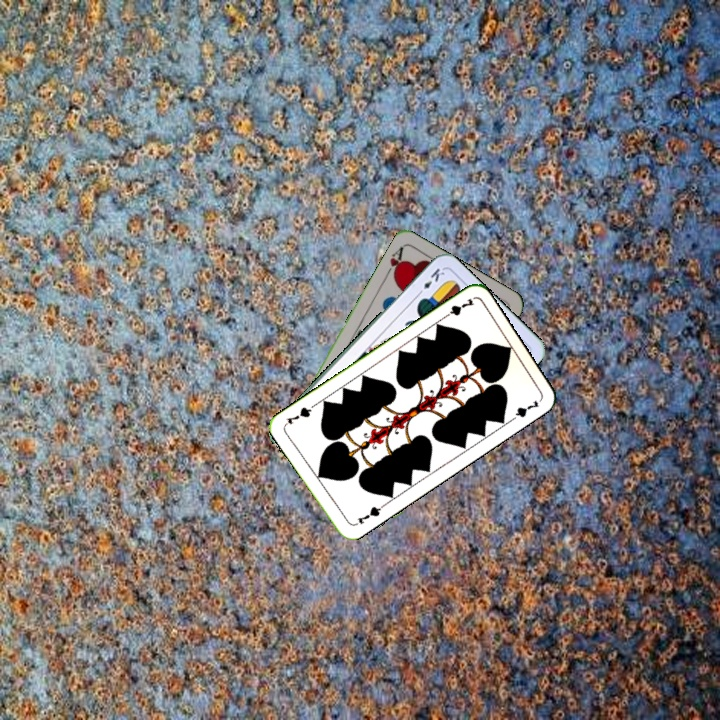EK: (414, 264, 447, 298)
G7: (438, 294, 477, 322), (352, 501, 386, 527)
HA: (381, 242, 407, 281)
